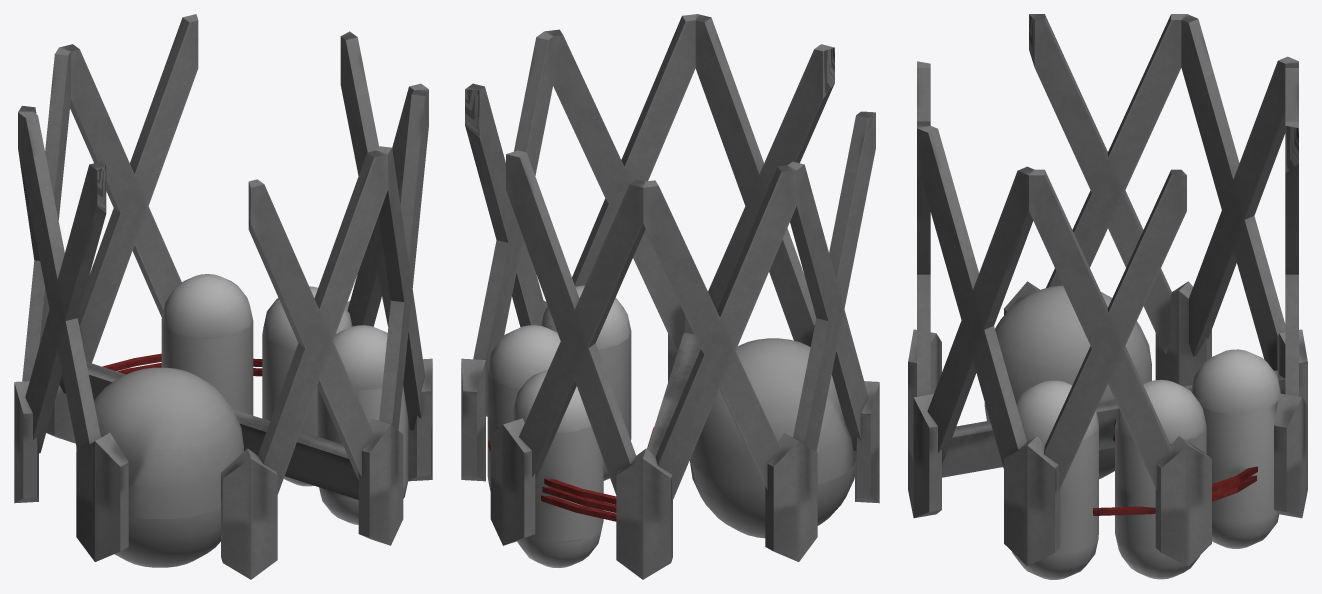
The model's file is ksprocket.fbx.
3 renders of one model, left to right at view 1: azimuth 30°, elevation 25°; view 2: azimuth 150°, elevation 25°; view 3: azimuth 270°, elevation 25°, orthographic.
Parts seen in each view (by area): view 1: engmount.001; view 2: engmount.001; view 3: engmount.001.
Part boxes in pixels (bbox=[...]): engmount.001: bbox=[14, 14, 432, 579]; engmount.001: bbox=[461, 14, 879, 579]; engmount.001: bbox=[908, 14, 1307, 579].
Bounding box in the file's own units: 666 × 784 × 666.
